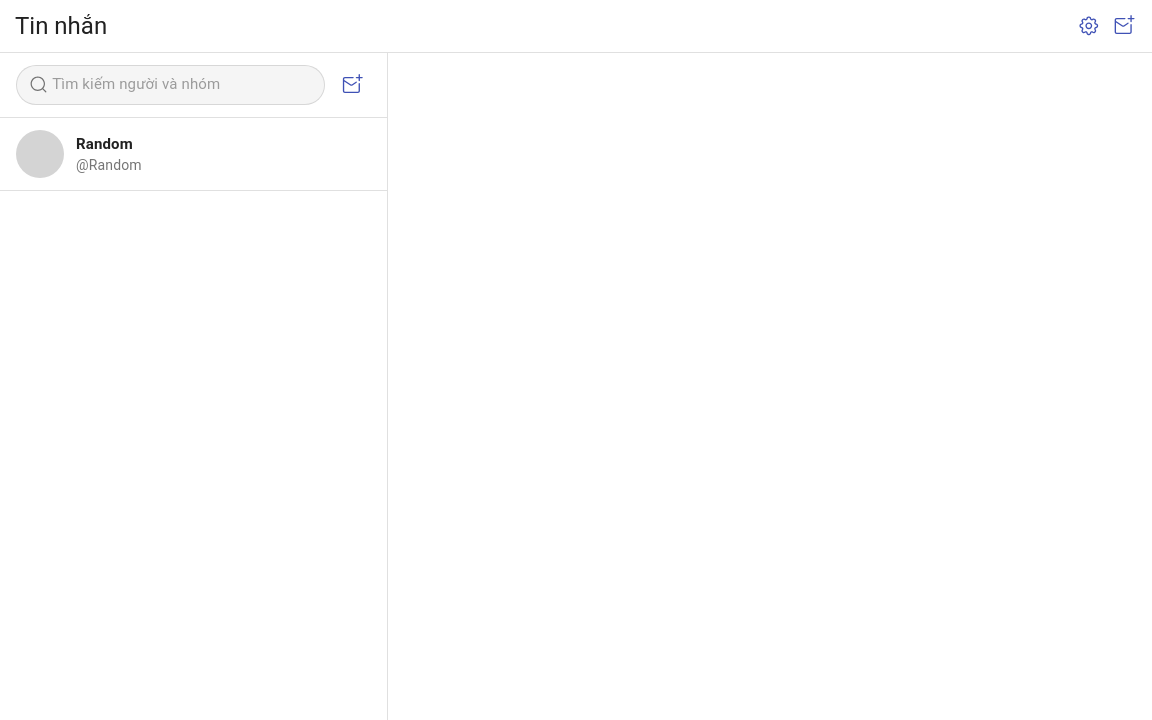
it: Tin nhắn › should hover Settings icon and render Hover Action
Hover over the 1st button at (1089, 26), box top-left (1071, 8), bottom-right (1106, 44)
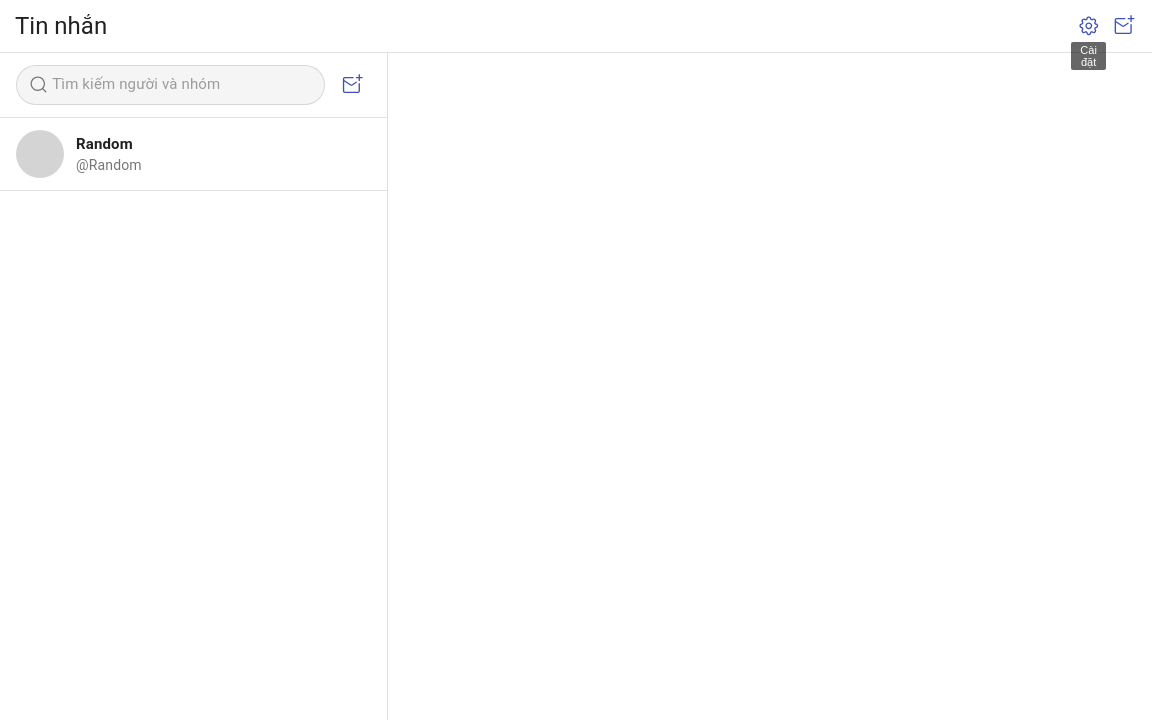
Expected: the element showing "Cài đặt" is shown, top-left (1071, 42), bottom-right (1106, 70)
